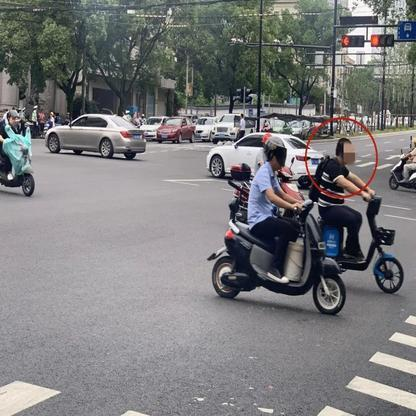target: (304, 138, 405, 292)
